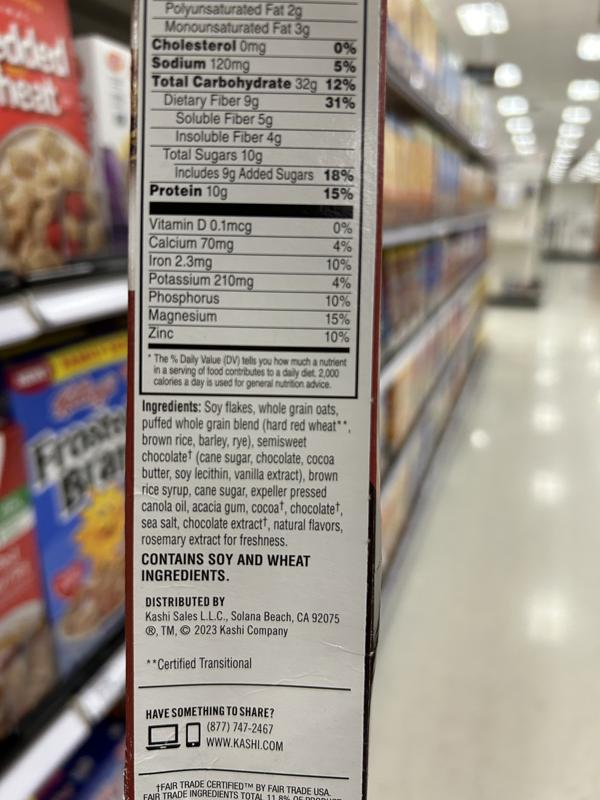ingredients: (138, 398, 354, 550)
